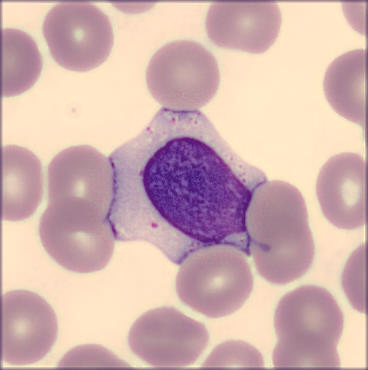WBC: (104, 101, 274, 270)
